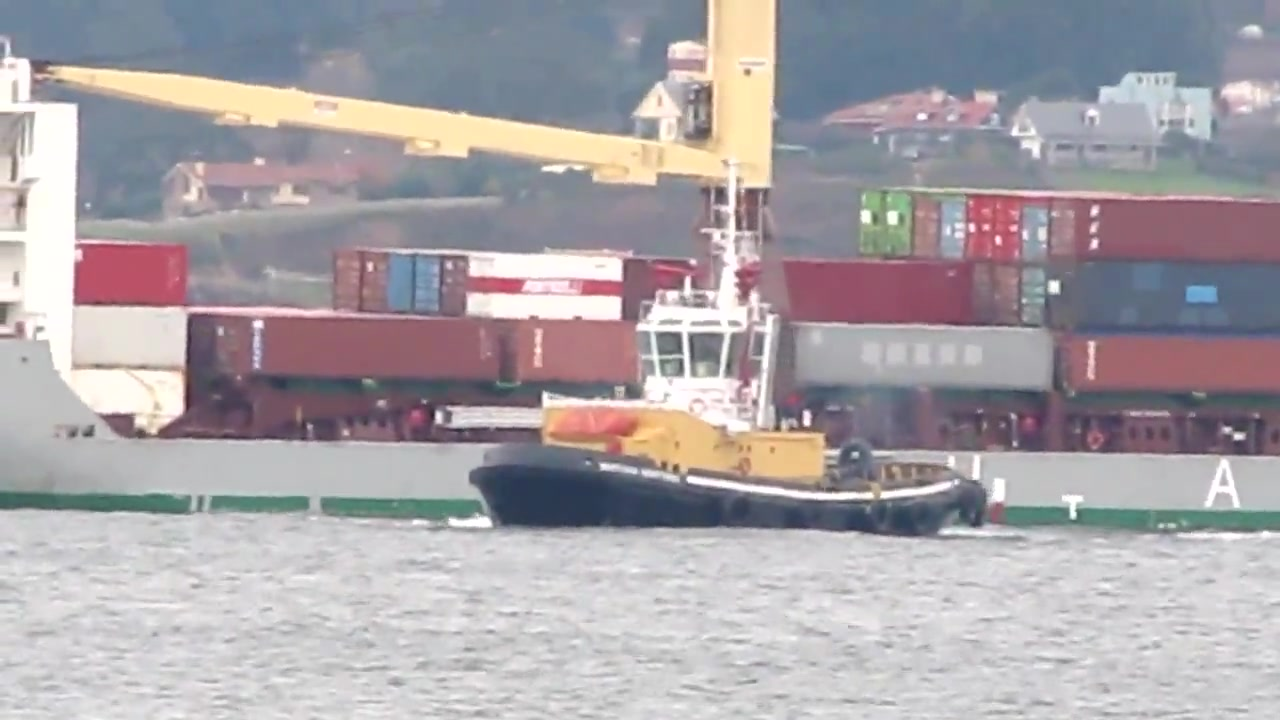boat: (456, 405, 995, 541)
